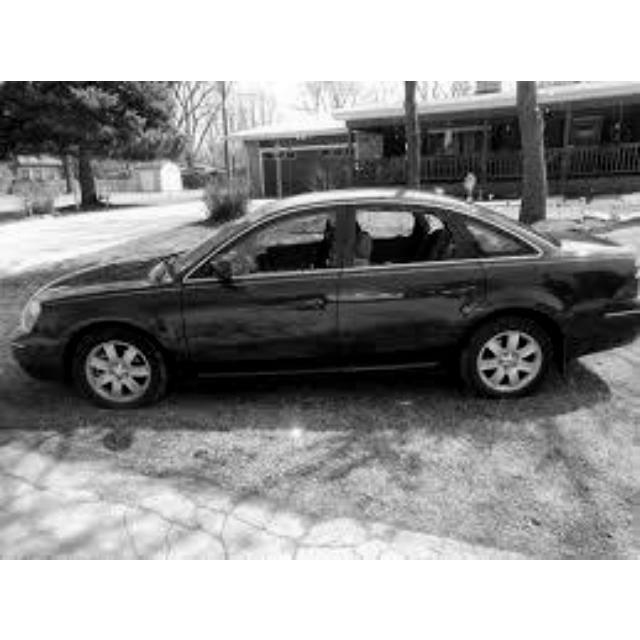doorouter-dent: (348, 207, 474, 320), (205, 216, 333, 324)
